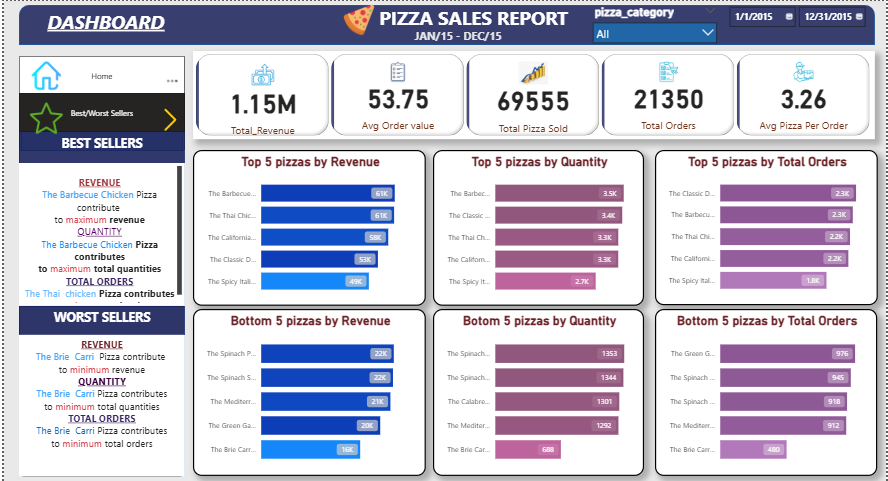

The dashboard page shown, as its layout file describes it:
{"tool":"powerbi","page":{"name":"Best/Worst Sellers","canvas":[1500,820],"ordinal":1},"visuals":[{"type":"cardVisual","fields":{"Data":["pizzadb pizza_sales.Total Revenue","pizzadb pizza_sales.Avg_Order_value","pizzadb pizza_sales.Total_pizza_sold","pizzadb pizza_sales.Total_orders","pizzadb pizza_sales.Avg_pizza_sold_per_order"]},"box":[321.5,85.1,1160.2,149.7],"z":0},{"type":"shape","box":[25.5,6.8,1456.3,68],"z":1000},{"type":"textbox","box":[490,0,618,74],"z":2000},{"type":"image","box":[564,0,78,64],"z":3000},{"type":"textbox","box":[526,40,494,52],"z":4000},{"type":"shape","box":[25.5,93.6,282.4,714.5],"z":5000},{"type":"shape","box":[25.5,253.5,282.4,265.4],"z":6000},{"type":"shape","box":[25.5,518.9,282.4,289.2],"z":7000},{"type":"textbox","box":[25.5,222.9,282.4,52.7],"z":8000},{"type":"textbox","box":[25.5,518.9,282.4,49.3],"z":9000},{"type":"textbox","box":[25.5,275.6,282.4,243.3],"z":10000},{"type":"textbox","box":[25.5,568.2,282.4,239.9],"z":11000},{"type":"slicer","fields":{"Values":["pizzadb pizza_sales.pizza_category"]},"box":[991.8,1.7,231.4,73.2],"z":12000},{"type":"slicer","fields":{"Values":["pizzadb pizza_sales.order_date"]},"box":[1221.5,0,260.3,76.6],"z":13000},{"type":"barChart","title":"Top 5 pizzas by Revenue","fields":{"Y":["pizzadb pizza_sales.Total_Revenue"],"Category":["pizzadb pizza_sales.pizza_name"]},"box":[321.5,253.5,396.4,265.4],"z":14000},{"type":"barChart","title":"Bottom 5 pizzas by Revenue","fields":{"Y":["pizzadb pizza_sales.Total_Revenue"],"Category":["pizzadb pizza_sales.pizza_name"]},"box":[321.5,524,396.4,284.1],"z":15000},{"type":"barChart","title":"Top 5 pizzas by Quantity","fields":{"Category":["pizzadb pizza_sales.pizza_name"],"Y":["Sum(pizzadb pizza_sales.quantity)"]},"box":[729.8,253.5,359,265.4],"z":16000},{"type":"barChart","title":"Top 5 pizzas by Total Orders","fields":{"Category":["pizzadb pizza_sales.pizza_name"],"Y":["pizzadb pizza_sales.Total Orders"]},"box":[1107.1,254,379,263.9],"z":17000},{"type":"barChart","title":"Botom 5 pizzas by Quantity","fields":{"Category":["pizzadb pizza_sales.pizza_name"],"Y":["Sum(pizzadb pizza_sales.quantity)"]},"box":[729.8,524,359,284.1],"z":18000},{"type":"barChart","title":"Bottom 5 pizzas by Total Orders","fields":{"Category":["pizzadb pizza_sales.pizza_name"],"Y":["pizzadb pizza_sales.Total Orders"]},"box":[1107.5,524,377.7,284.1],"z":19000},{"type":"pageNavigator","box":[25.5,93.6,282.4,66.3],"z":20000},{"type":"pageNavigator","box":[25.5,156.5,282.4,66.3],"z":21000},{"type":"image","box":[258.6,173.5,49.3,57.8],"z":22000},{"type":"image","box":[39.1,97,66.3,59.5],"z":23000},{"type":"image","box":[39.1,163.3,66.3,71.5],"z":24000},{"type":"textbox","box":[39.1,6.8,268.8,69.8],"z":25000}]}

Visuals, with their boxes in screenshot pixels (x1, y1, x2, y2), scaled from the page's 1500x820 canvas onto the 888x481 screenshot:
cardVisual - pizzadb pizza_sales.Total Revenue x pizzadb pizza_sales.Avg_Order_value: (190, 50, 877, 138)
shape: (15, 4, 877, 44)
textbox: (290, 0, 656, 43)
image: (334, 0, 380, 38)
textbox: (311, 23, 604, 54)
shape: (15, 55, 182, 474)
shape: (15, 149, 182, 304)
shape: (15, 304, 182, 474)
textbox: (15, 131, 182, 162)
textbox: (15, 304, 182, 333)
textbox: (15, 162, 182, 304)
textbox: (15, 333, 182, 474)
slicer - pizzadb pizza_sales.pizza_category: (587, 1, 724, 44)
slicer - pizzadb pizza_sales.order_date: (723, 0, 877, 45)
"Top 5 pizzas by Revenue" barChart: (190, 149, 425, 304)
"Bottom 5 pizzas by Revenue" barChart: (190, 307, 425, 474)
"Top 5 pizzas by Quantity" barChart: (432, 149, 645, 304)
"Top 5 pizzas by Total Orders" barChart: (655, 149, 880, 304)
"Botom 5 pizzas by Quantity" barChart: (432, 307, 645, 474)
"Bottom 5 pizzas by Total Orders" barChart: (656, 307, 879, 474)
pageNavigator: (15, 55, 182, 94)
pageNavigator: (15, 92, 182, 131)
image: (153, 102, 182, 136)
image: (23, 57, 62, 92)
image: (23, 96, 62, 138)
textbox: (23, 4, 182, 45)
